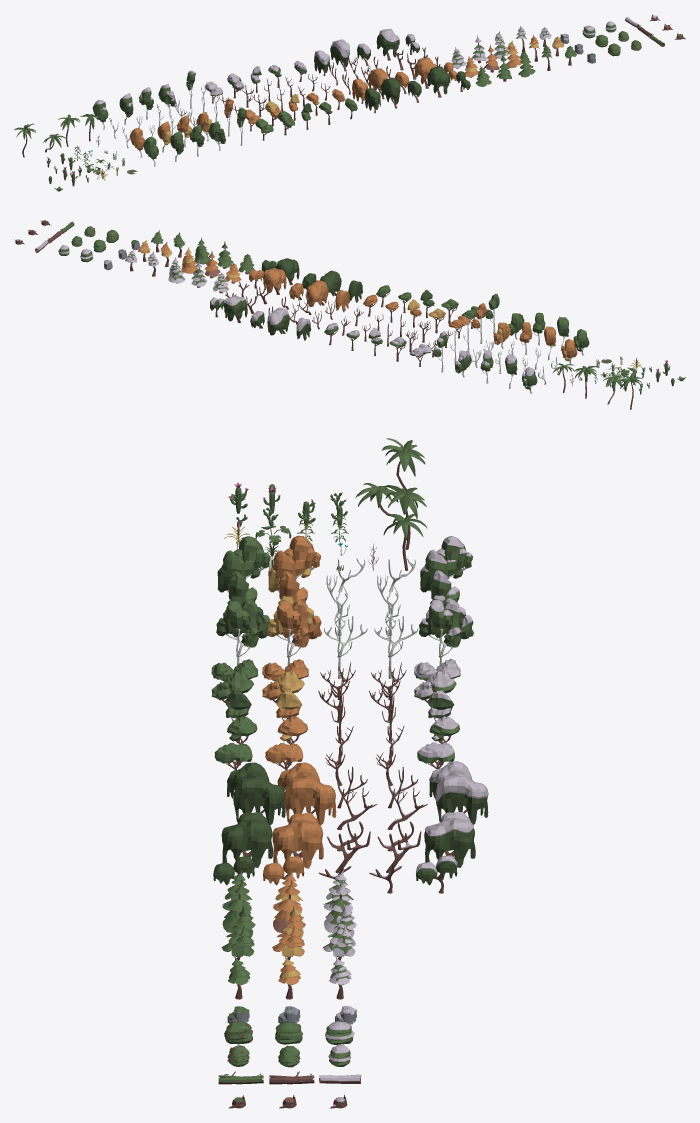
Rendered from nature-gym.glb.
The picture shows the model from 3 angles, top to bottom: view 1: azimuth 30°, elevation 25°; view 2: azimuth 150°, elevation 25°; view 3: azimuth 270°, elevation 25°; orthographic projection. The views are drawn at different scales.
Parts seen in each view (by area): view 1: Willow_4, Willow_Snow_4, Willow_Snow_2, Willow_2, Willow_Autumn_4, Willow_Autumn_2, Willow_Snow_1, Willow_1, BirchTree_Snow_4, BirchTree_4; view 2: Willow_Snow_2, Willow_Snow_4, Willow_Autumn_2, Willow_Autumn_4, Willow_4, Willow_2; view 3: Willow_Snow_2, Willow_Snow_4, Willow_4, Willow_Autumn_4, Willow_Autumn_2, Willow_2, BirchTree_Snow_4, BirchTree_Autumn_4, BirchTree_4.
Part boxes in pixels (bbox=[...]): Willow_4: bbox=[427, 66, 450, 97]; Willow_Snow_4: bbox=[376, 28, 399, 60]; Willow_Snow_2: bbox=[330, 39, 349, 71]; Willow_2: bbox=[381, 77, 400, 108]; Willow_Autumn_4: bbox=[414, 57, 436, 88]; Willow_Autumn_2: bbox=[368, 68, 387, 99]; Willow_Snow_1: bbox=[314, 50, 330, 76]; Willow_1: bbox=[364, 88, 380, 113]; BirchTree_Snow_4: bbox=[158, 84, 176, 113]; BirchTree_4: bbox=[208, 121, 225, 150]; Willow_Snow_2: bbox=[267, 307, 289, 335]; Willow_Snow_4: bbox=[224, 295, 247, 323]; Willow_Autumn_2: bbox=[306, 280, 328, 306]; Willow_Autumn_4: bbox=[263, 268, 286, 294]; Willow_4: bbox=[276, 258, 299, 285]; Willow_2: bbox=[320, 270, 341, 296]; Willow_Snow_2: bbox=[435, 774, 488, 824]; Willow_Snow_4: bbox=[424, 817, 475, 872]; Willow_4: bbox=[221, 819, 272, 872]; Willow_Autumn_4: bbox=[272, 819, 323, 872]; Willow_Autumn_2: bbox=[284, 776, 336, 825]; Willow_2: bbox=[233, 776, 285, 825]; BirchTree_Snow_4: bbox=[419, 598, 473, 657]; BirchTree_Autumn_4: bbox=[267, 599, 322, 657]; BirchTree_4: bbox=[216, 598, 270, 656].
Size of the model in its own units: 85.99 by 5.29 by 16.42.
